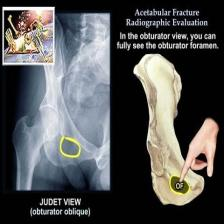oblique-fracture: (2, 14, 110, 190)
